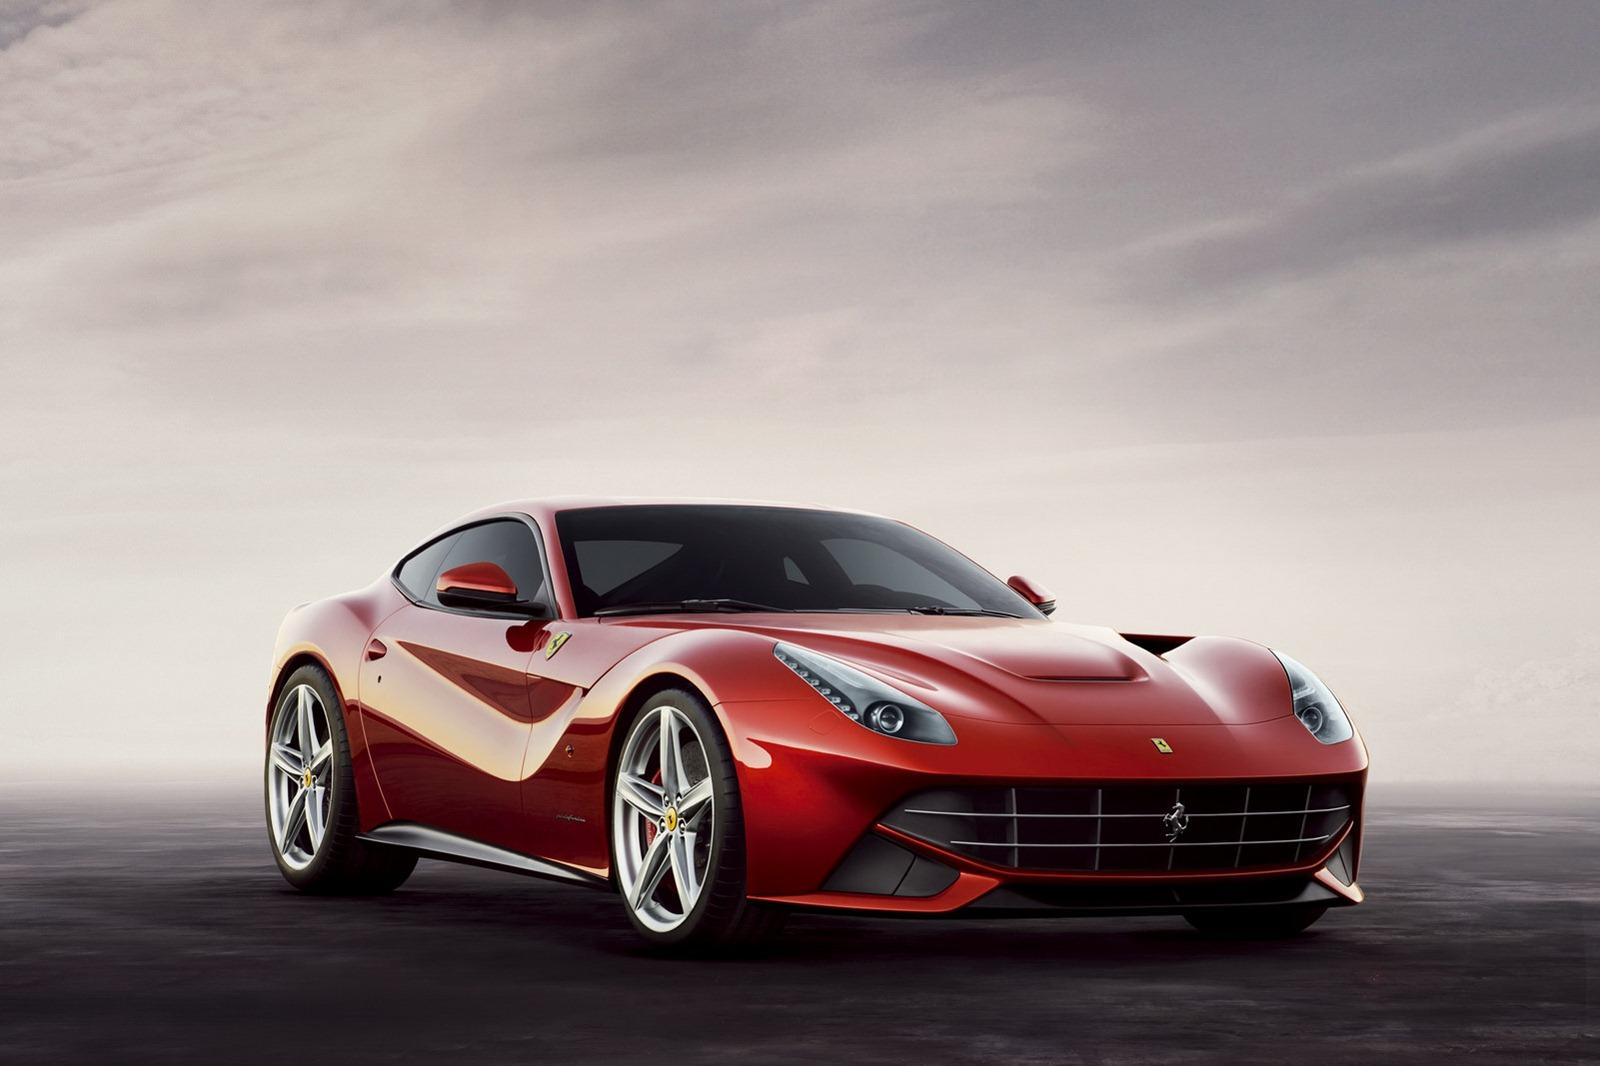small: (261, 491, 1373, 954)
